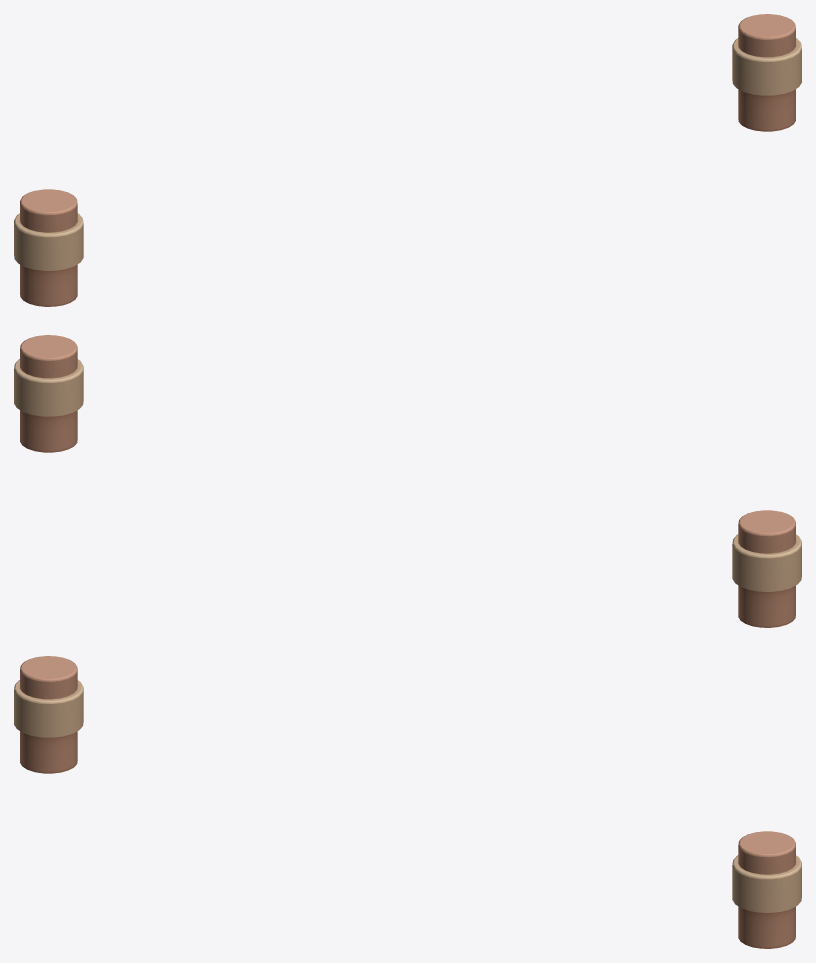
The model's file is Props.fbx.
3 renders of one model, top to bottom at view 1: azimuth 30°, elevation 25°; view 2: azimuth 150°, elevation 25°; view 3: azimuth 330°, elevation 25°, orthographic.
Parts seen in each view (by area): view 1: Cylinder-2, Cylinder-2 (1); view 2: Cylinder-2, Cylinder-2 (1); view 3: Cylinder-2 (1), Cylinder-2.
Part boxes in pixels (left/top/right/bottom): Cylinder-2: left=14, top=189, right=83, bottom=306; Cylinder-2 (1): left=732, top=14, right=801, bottom=131; Cylinder-2: left=732, top=510, right=801, bottom=627; Cylinder-2 (1): left=14, top=335, right=83, bottom=452; Cylinder-2 (1): left=732, top=831, right=801, bottom=948; Cylinder-2: left=14, top=656, right=83, bottom=773.
Size of the model in its own units: 43.38 by 5 by 3.38.
